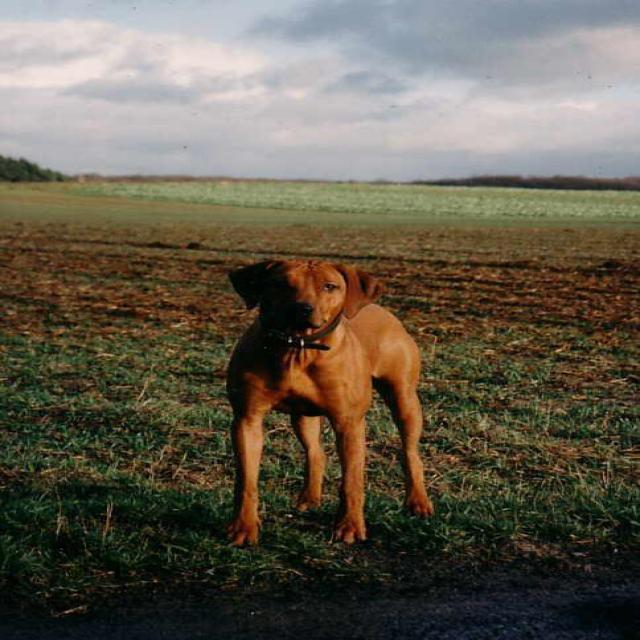rhodesian_ridgeback: (212, 256, 442, 559)
